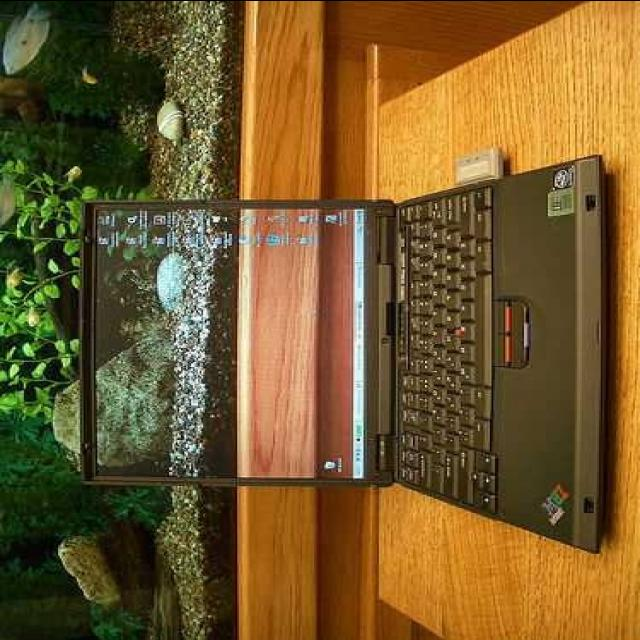laptop: (228, 175, 522, 515)
